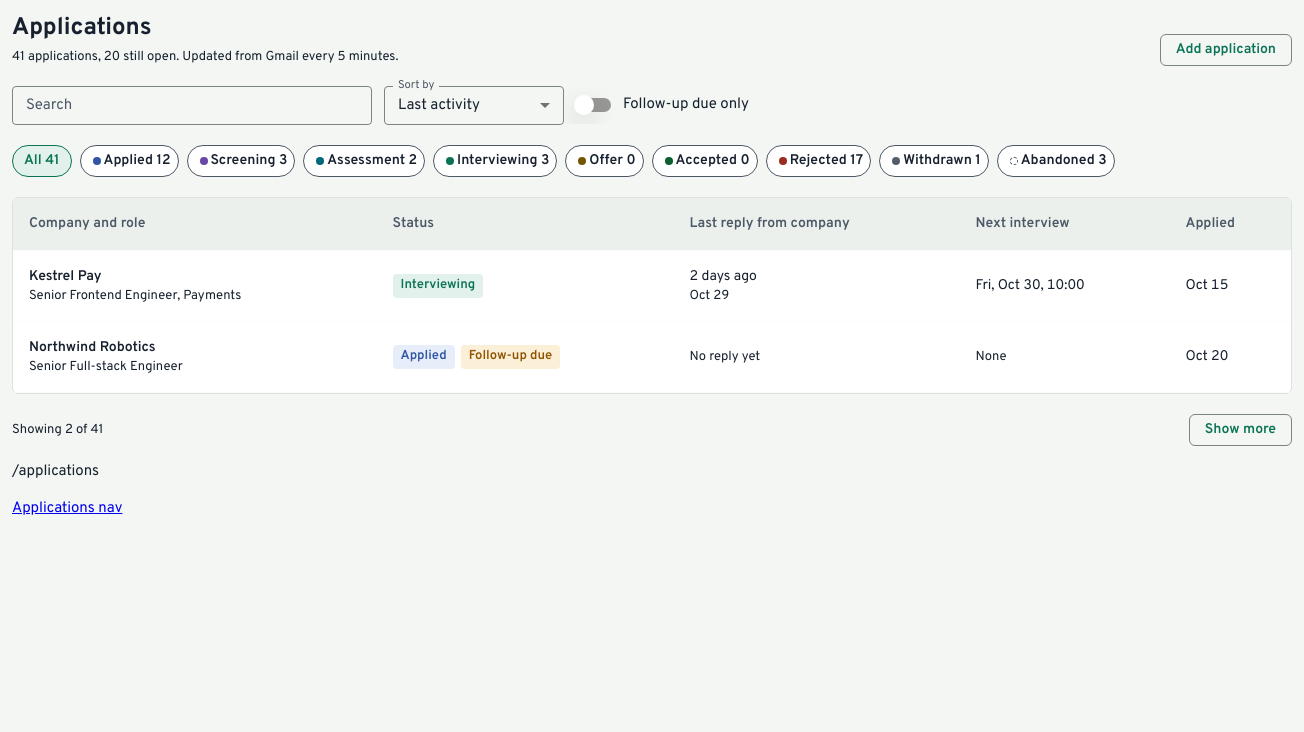
Test case: ApplicationsPage › Show more follows the cursor and appends the next page
The width and height of the screenshot is (1304, 732).
Expected: the link "Kestrel Pay" is shown, [29, 268, 102, 285]
Expected: the text "Showing 2 of 41" is shown, [12, 421, 103, 439]
Click the button "Show more": click(1240, 430) [1189, 414, 1292, 446]
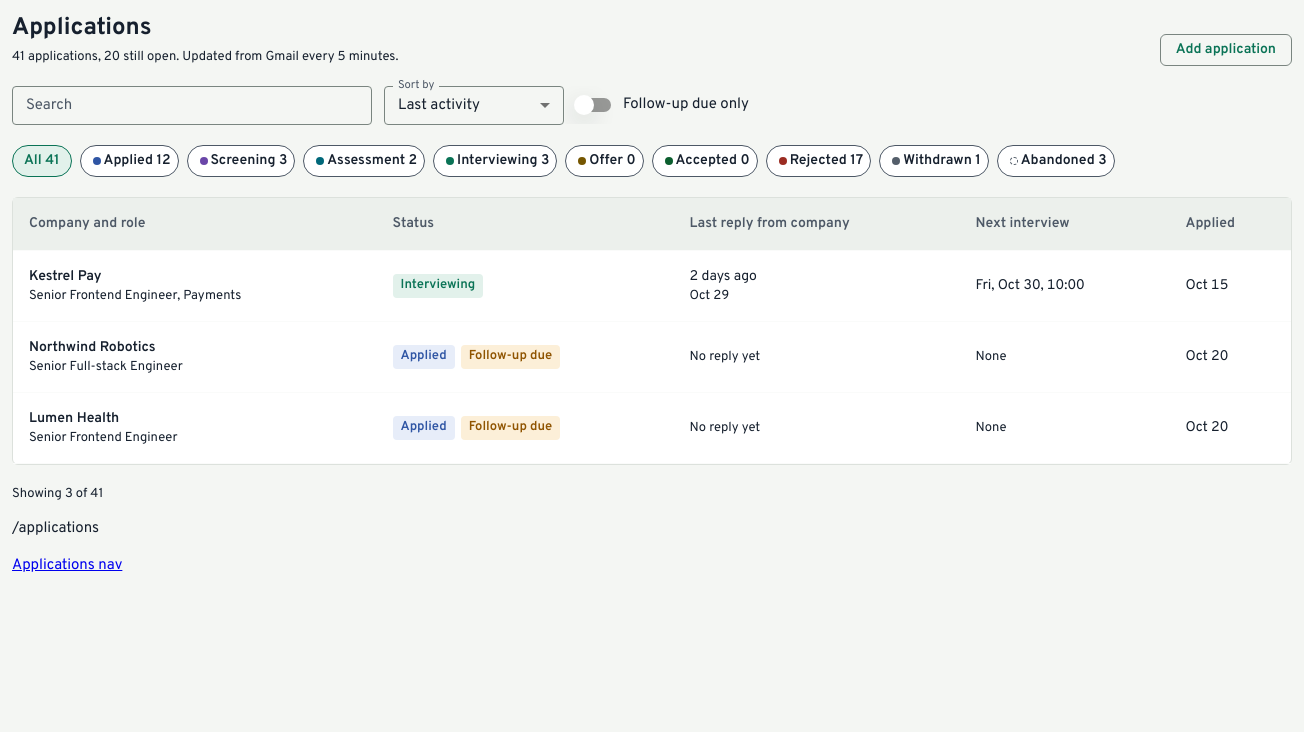
Expected: the link "Kestrel Pay" is shown, [29, 268, 102, 285]
Result: the link "Lumen Health" is shown at [29, 410, 119, 427]
Result: the button "Show more" is gone
